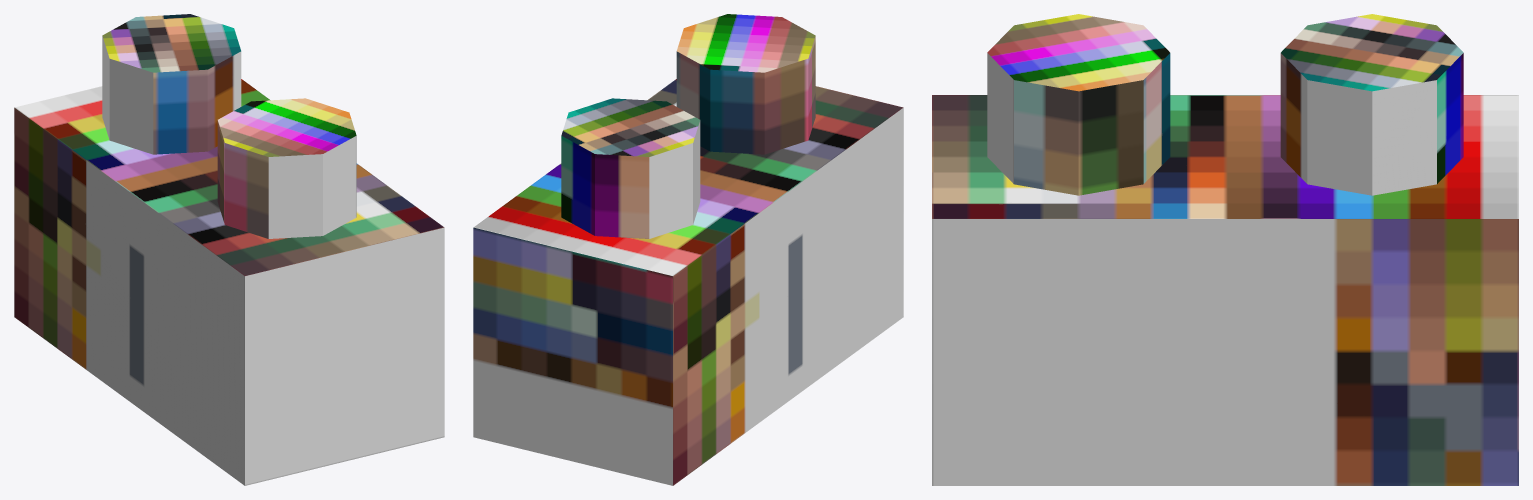
The model's file is Lego1.fbx.
3 views of the same model, side by side, from view 1: azimuth 30°, elevation 25°; view 2: azimuth 150°, elevation 25°; view 3: azimuth 270°, elevation 25° (orthographic). The views are drawn at different scales.
Visible parts, largest first — view 1: Prop_BuildingBlockToy_04; view 2: Prop_BuildingBlockToy_04; view 3: Prop_BuildingBlockToy_04.
Part boxes in pixels (x1=…): Prop_BuildingBlockToy_04: x1=14, y1=14, x2=444, y2=485; Prop_BuildingBlockToy_04: x1=473, y1=14, x2=903, y2=485; Prop_BuildingBlockToy_04: x1=932, y1=14, x2=1518, y2=485.
Bounding box in the file's own units: 5.79 × 8.08 × 11.58.
